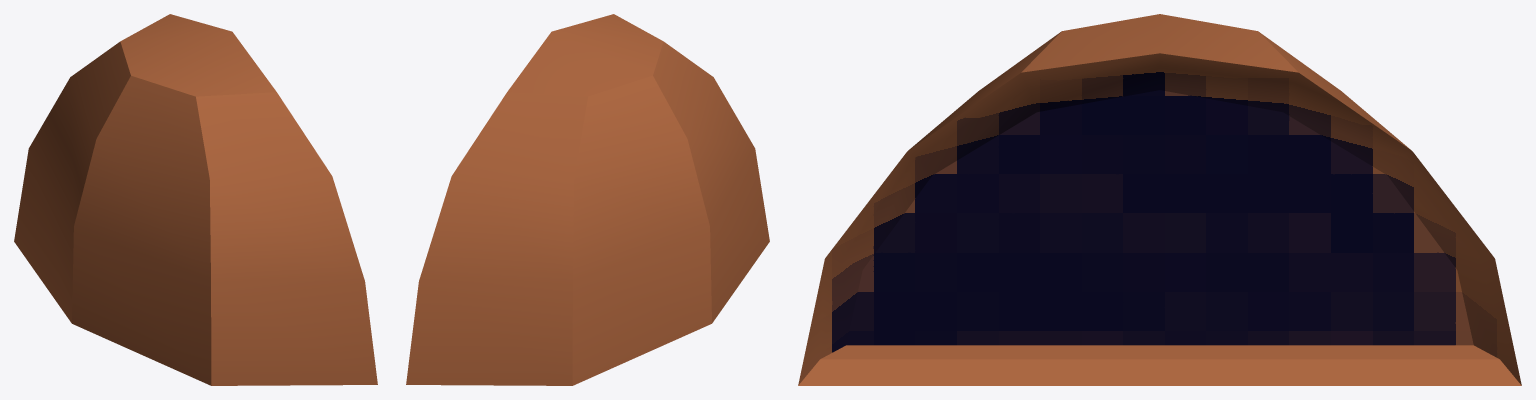
File: SpeedMater.gltf
3 views of the same model, side by side, from view 1: azimuth 30°, elevation 25°; view 2: azimuth 150°, elevation 25°; view 3: azimuth 270°, elevation 25° (orthographic). The views are drawn at different scales.
Visible parts, largest first — view 1: Meter; view 2: Meter; view 3: Meter.
Part boxes in pixels (box(x1,y1,x2,y2)): Meter: box(14, 14, 377, 385); Meter: box(406, 14, 769, 385); Meter: box(798, 14, 1521, 385).
Size of the model in its own units: 0.2294 by 0.3324 by 0.6634.
Materials: 1 (1 with a texture image).
